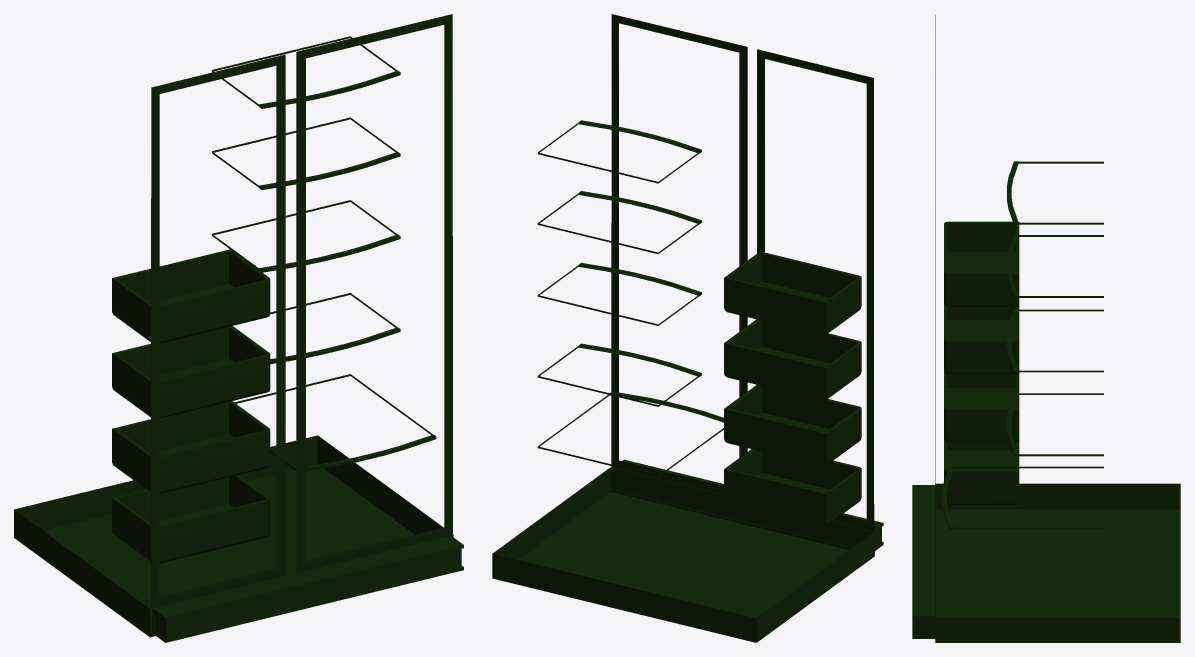
File: Fridge_14_FridgeBodyMesh_0_5.obj
The picture shows the model from 3 angles, left to right: view 1: azimuth 30°, elevation 25°; view 2: azimuth 150°, elevation 25°; view 3: azimuth 270°, elevation 25°; orthographic projection. The views are drawn at different scales.
Size of the model in its own units: 1.1 by 1.91 by 0.9311.
